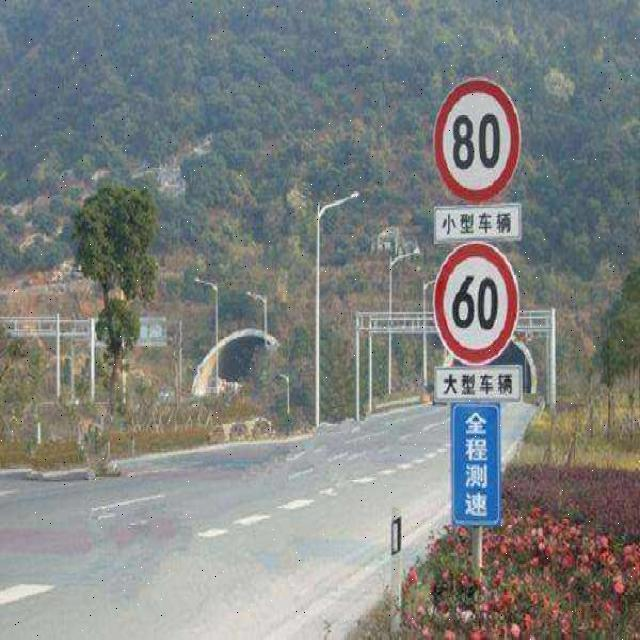speed limit 60: (432, 241, 520, 365)
speed limit 80: (434, 80, 522, 202)
